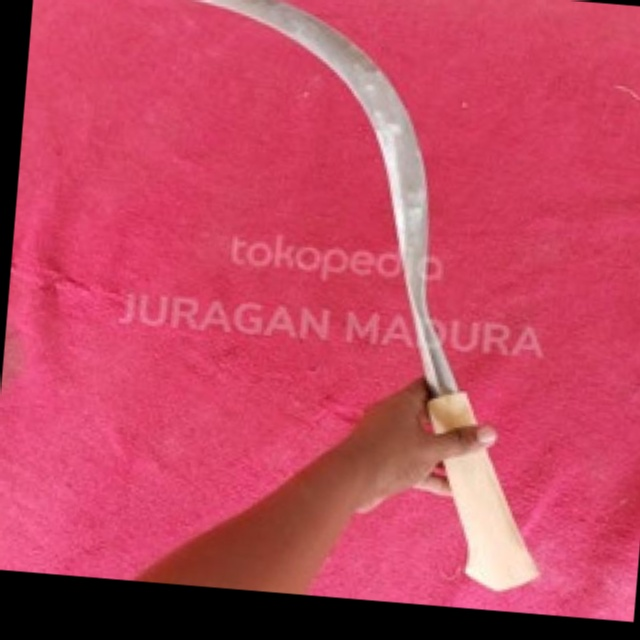Sharp-Object: (14, 0, 594, 599)
